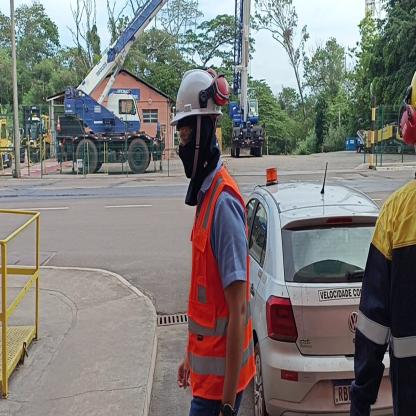Balaclava: (176, 118, 224, 185)
Capacete: (170, 64, 225, 122)
colete: (187, 193, 257, 393)
